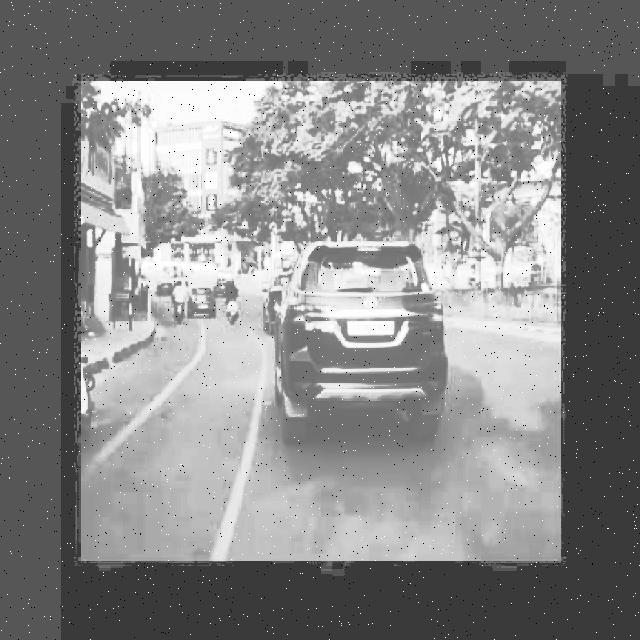Car: (277, 237, 450, 455), (187, 274, 226, 331)
